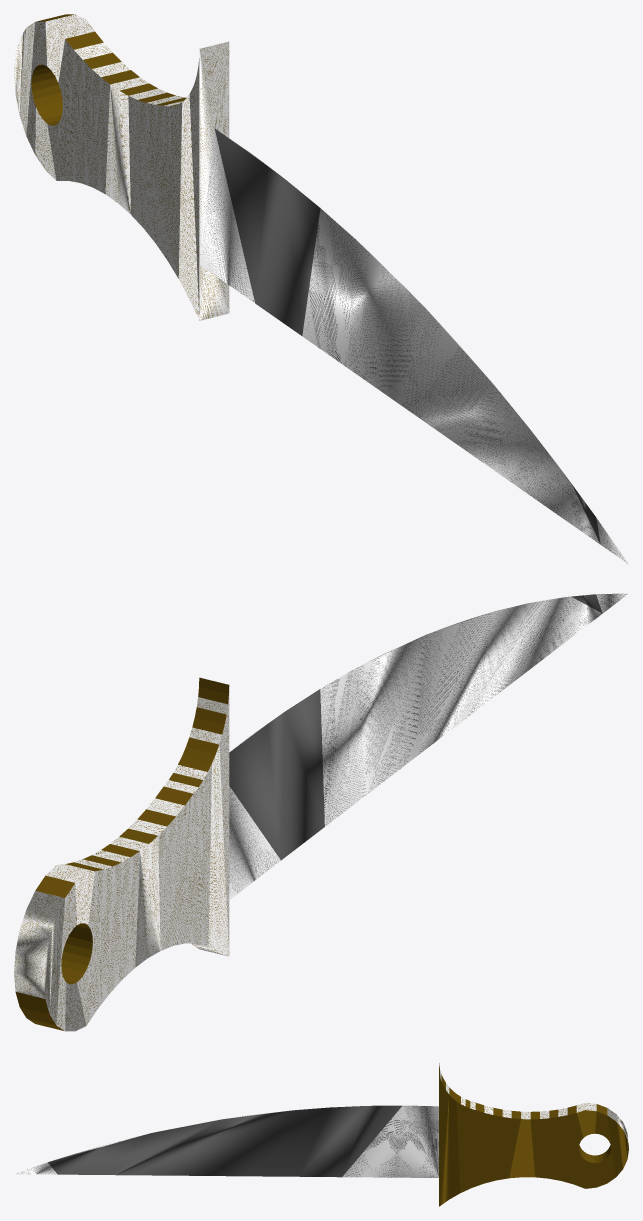
The model's file is model_align.obj.
The picture shows the model from 3 angles, top to bottom: view 1: azimuth 30°, elevation 25°; view 2: azimuth 150°, elevation 25°; view 3: azimuth 270°, elevation 25°; orthographic projection. The views are drawn at different scales.
Bounding box in the file's own units: 0.00576 × 0.0499 × 0.1996.
